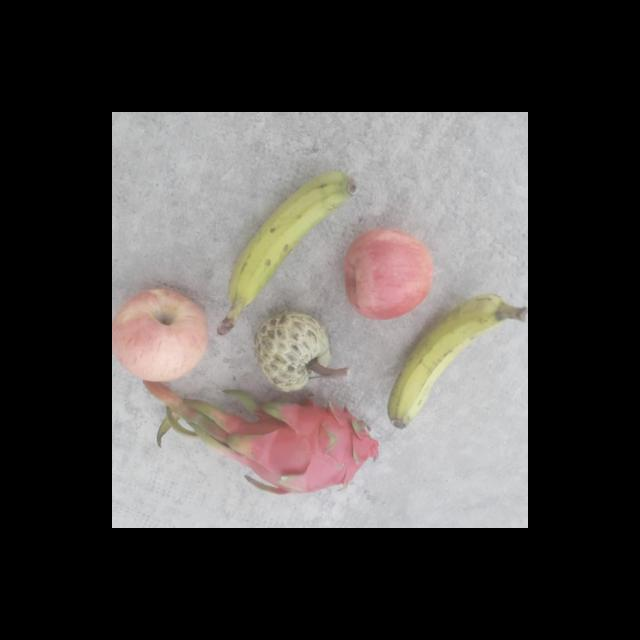Sakya fruit: (252, 311, 344, 394)
apple: (340, 222, 436, 322), (112, 288, 212, 382)
banana: (214, 170, 366, 338), (384, 293, 528, 432)
pitaya: (215, 396, 386, 504)
